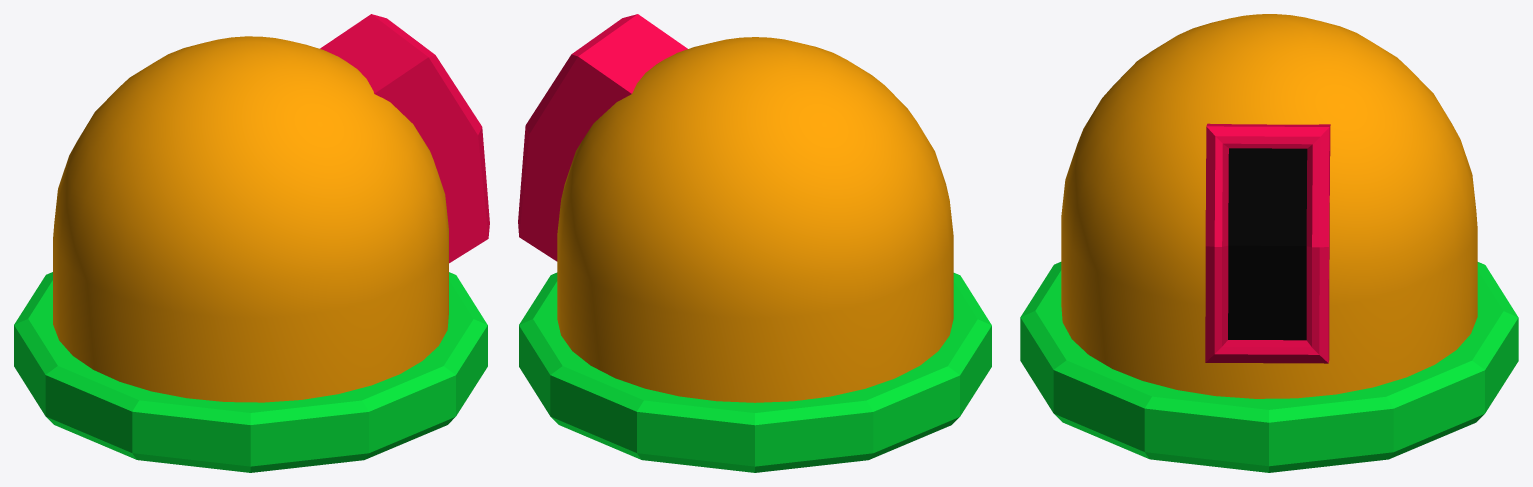
File: RobotHead.fbx
3 renders of one model, left to right at view 1: azimuth 30°, elevation 25°; view 2: azimuth 150°, elevation 25°; view 3: azimuth 270°, elevation 25°, orthographic. The views are drawn at different scales.
Visible parts, largest first — view 1: Circle.012; view 2: Circle.012; view 3: Circle.012.
Boxes of the visible parts, x1,y1,x2,y2 form: Circle.012: [14, 14, 489, 472]; Circle.012: [518, 14, 991, 472]; Circle.012: [1020, 14, 1518, 472].
Bounding box in the file's own units: 1367 × 1004 × 1338.
